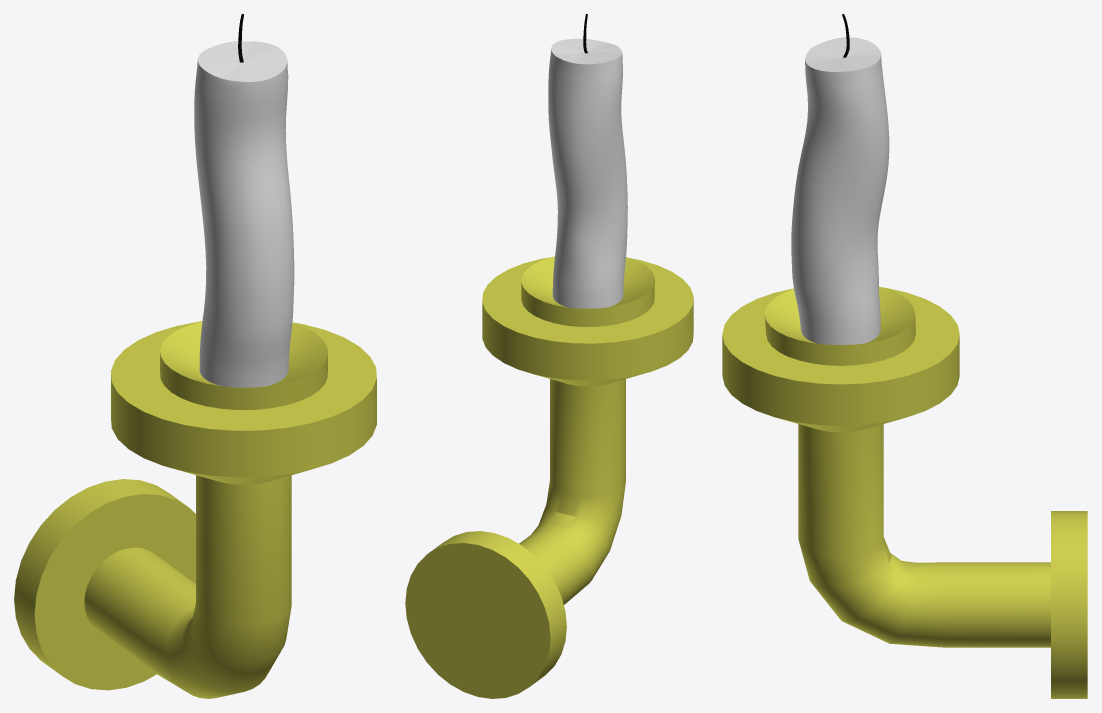
File: candle.fbx
The picture shows the model from 3 angles, left to right: view 1: azimuth 30°, elevation 25°; view 2: azimuth 150°, elevation 25°; view 3: azimuth 270°, elevation 25°; orthographic projection. The views are drawn at different scales.
Parts seen in each view (by area): view 1: Cylinder; view 2: Cylinder; view 3: Cylinder.
Boxes of the visible parts, x1,y1,x2,y2 form: Cylinder: [14, 14, 376, 698]; Cylinder: [405, 14, 693, 698]; Cylinder: [722, 14, 1087, 698].
Bounding box in the file's own units: 52 × 163 × 79.99.
